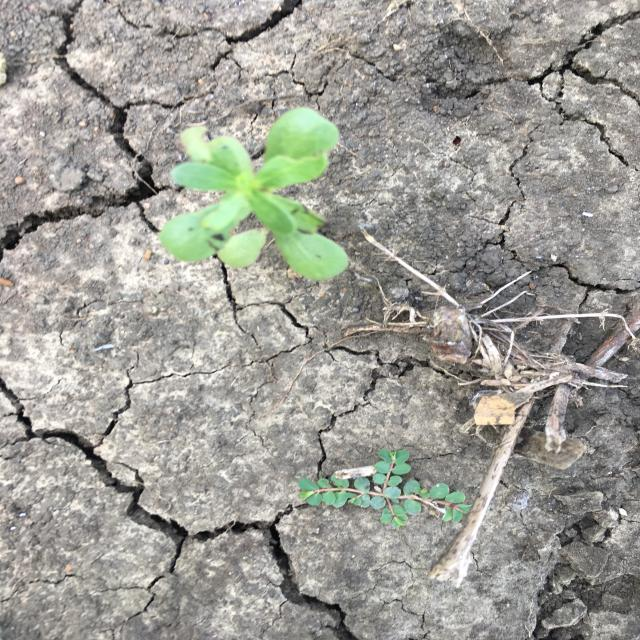Purslane: (155, 105, 354, 284)
SpottedSpurge: (290, 446, 475, 532)
